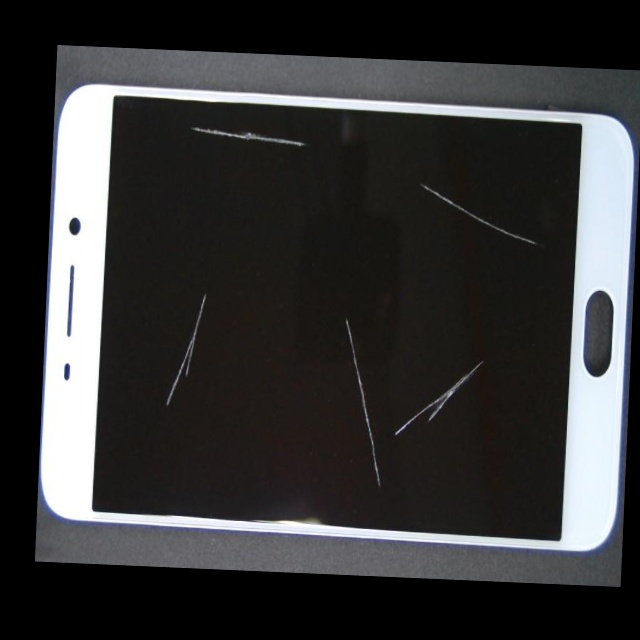scratch: (308, 161, 639, 534), (192, 287, 567, 584), (135, 103, 265, 469), (362, 171, 638, 287), (258, 87, 394, 163)
